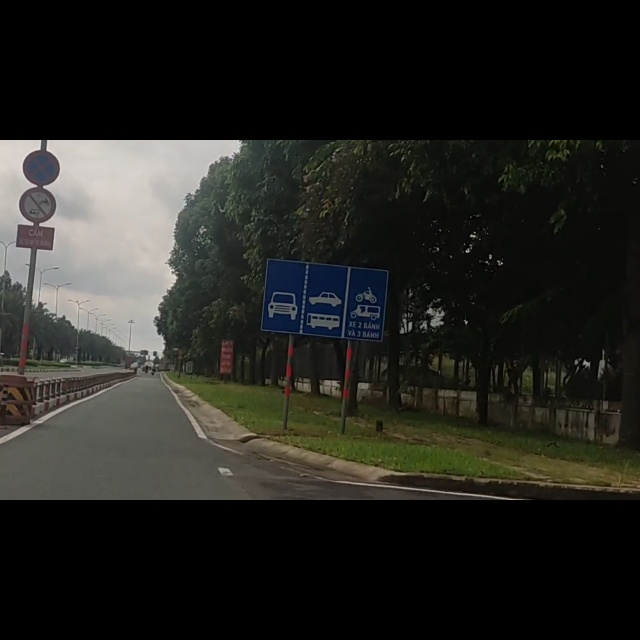bien_chi_dan: (262, 207, 389, 358), (18, 82, 56, 149), (21, 18, 59, 81)
